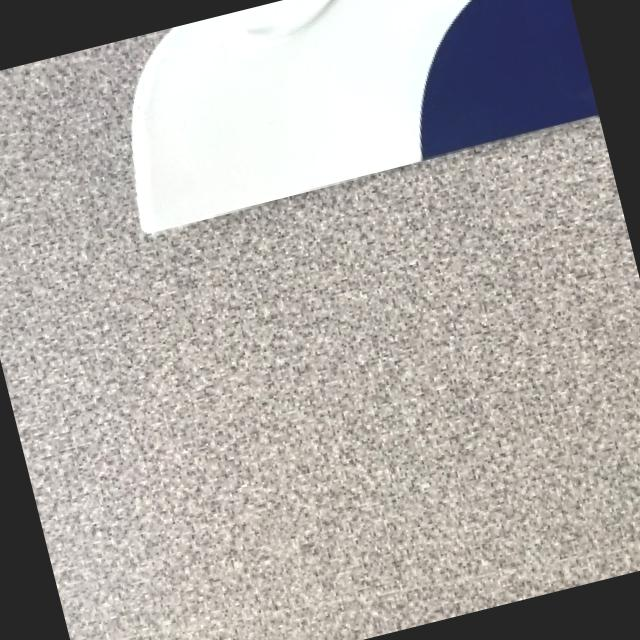healthy: (133, 0, 597, 230)
